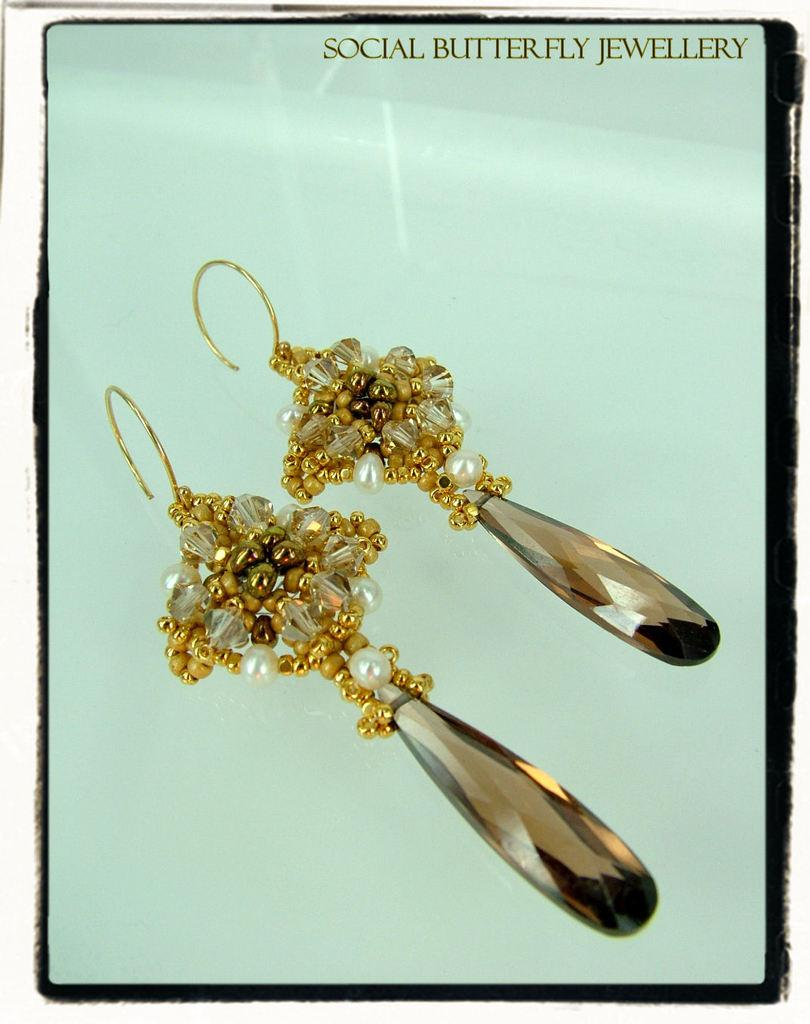earring: (104, 376, 658, 944), (185, 257, 721, 668)
